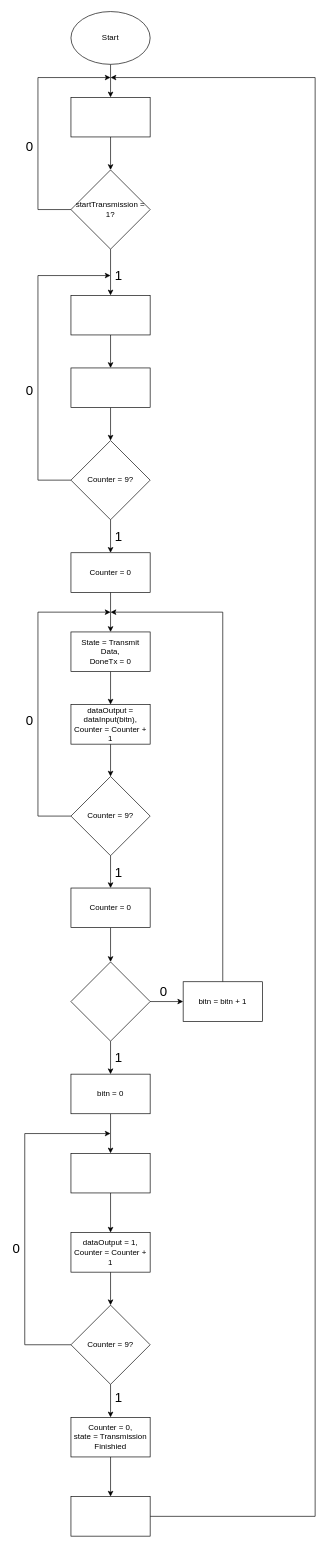
Some shapes in this 332 by 1548 pixel diagram are drawn without their labels. Each missing label, with the centre of its shape:
bitn < 7?: pixel 110 1001
dataOutput = 0, Counter = Counter + 1: pixel 110 387
DoneTx = 1: pixel 110 1516
State = IDLE, dataOutput = 1, DoneTx = 0: pixel 110 117
State = Transmit Start Bit, DoneTx = 0: pixel 110 315
State = Transmit Stop Bit, DoneTx = 0: pixel 110 1173
